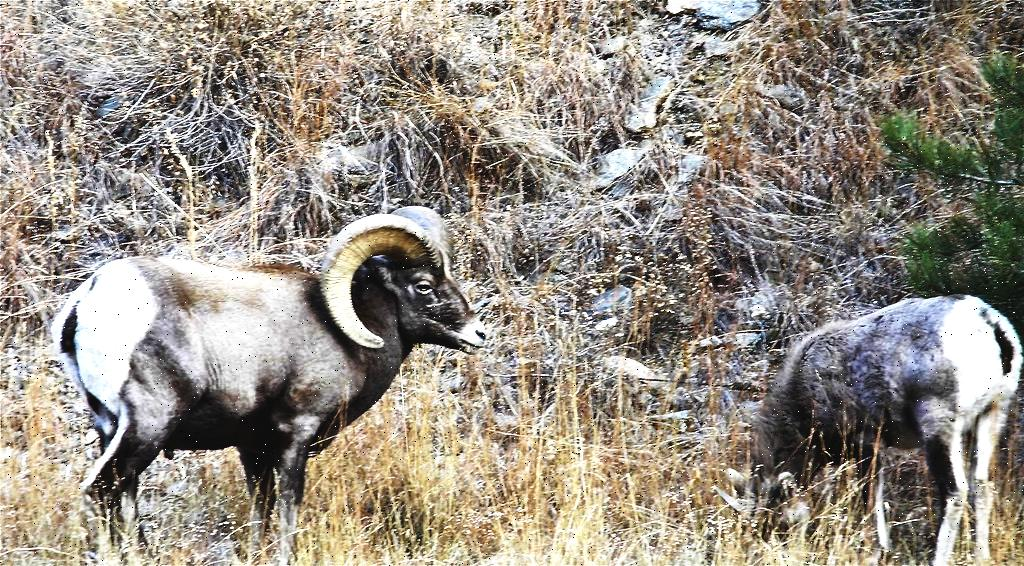Sheep: (51, 203, 488, 565), (710, 296, 1023, 565)
